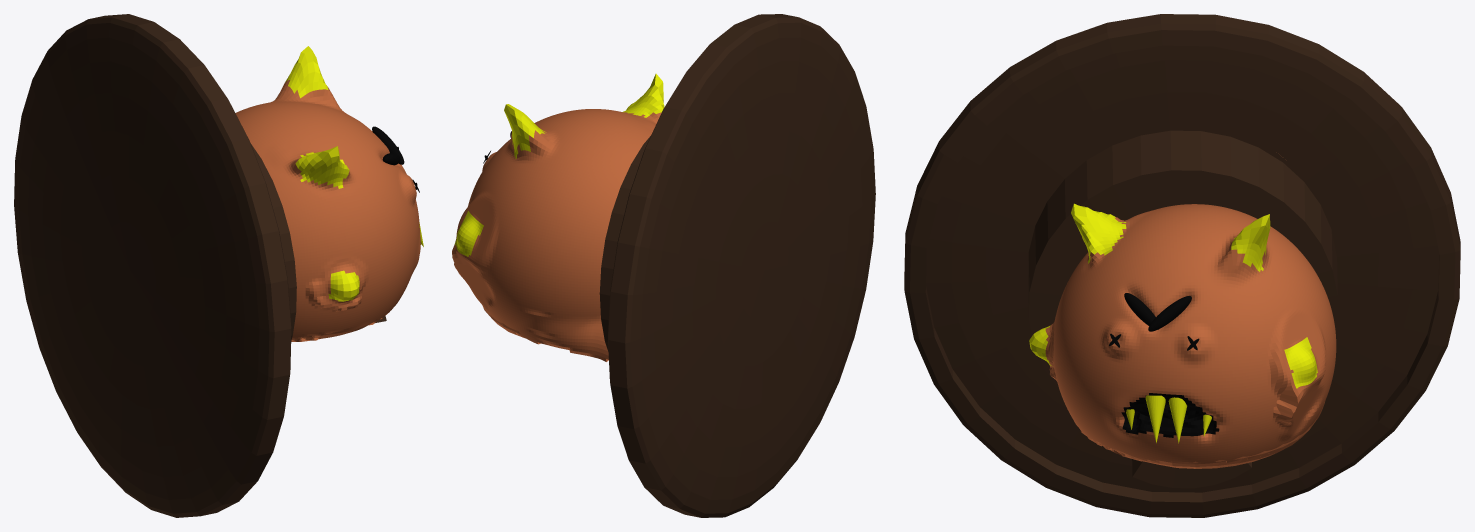
The model's file is headonplate (1).fbx.
3 views of the same model, side by side, from view 1: azimuth 30°, elevation 25°; view 2: azimuth 150°, elevation 25°; view 3: azimuth 270°, elevation 25° (orthographic). The views are drawn at different scales.
Parts seen in each view (by area): view 1: Sphere; view 2: Sphere; view 3: Sphere.
Part boxes in pixels (<box>): Sphere: <box>14,14,423,517</box>; Sphere: <box>452,14,875,517</box>; Sphere: <box>904,14,1460,517</box>.
Bounding box in the file's own units: 193 × 298 × 298.
